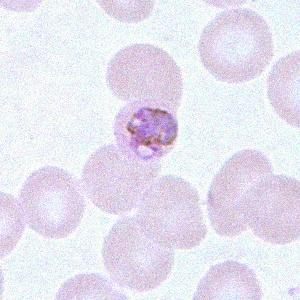Infected: (113, 96, 180, 163)
Uninfected: (209, 149, 273, 238), (103, 215, 175, 292), (202, 9, 274, 84), (86, 145, 160, 215), (142, 174, 207, 248), (106, 44, 183, 105), (22, 168, 86, 239), (245, 177, 300, 246)
